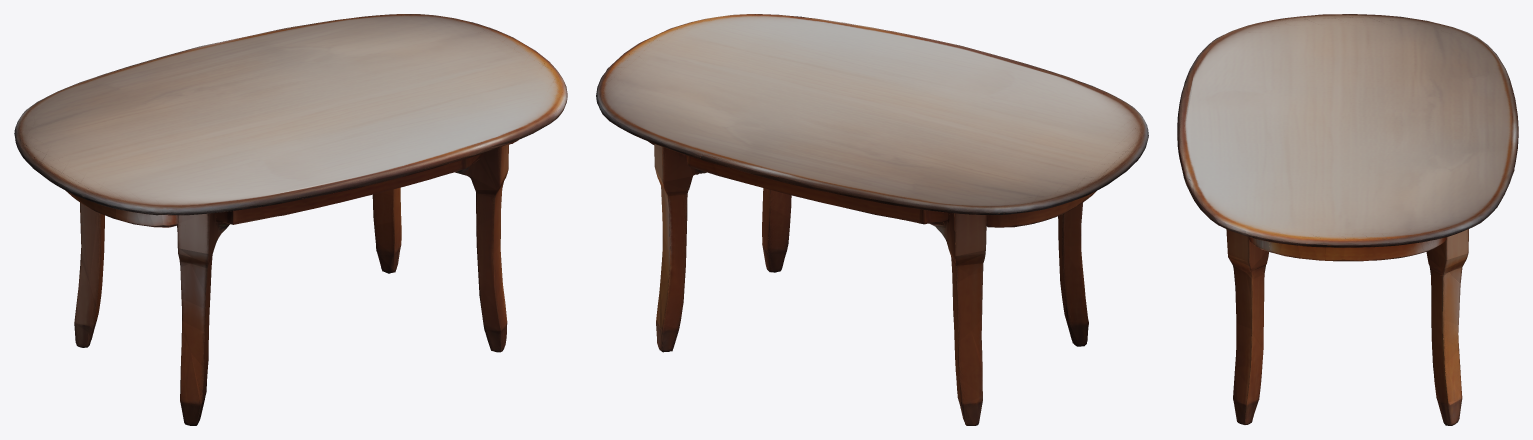
The model's file is coffeetable-trellis.glb.
3 renders of one model, left to right at view 1: azimuth 30°, elevation 25°; view 2: azimuth 150°, elevation 25°; view 3: azimuth 270°, elevation 25°, orthographic. The views are drawn at different scales.
Visible parts, largest first — view 1: geometry_0; view 2: geometry_0; view 3: geometry_0.
Boxes of the visible parts, box(x1,y1,x2,y2) form: geometry_0: box(14, 14, 567, 425); geometry_0: box(596, 14, 1148, 425); geometry_0: box(1177, 14, 1518, 425).
Bounding box in the file's own units: 1 × 0.4606 × 0.6293.
Materials: 1 (1 with a texture image).
